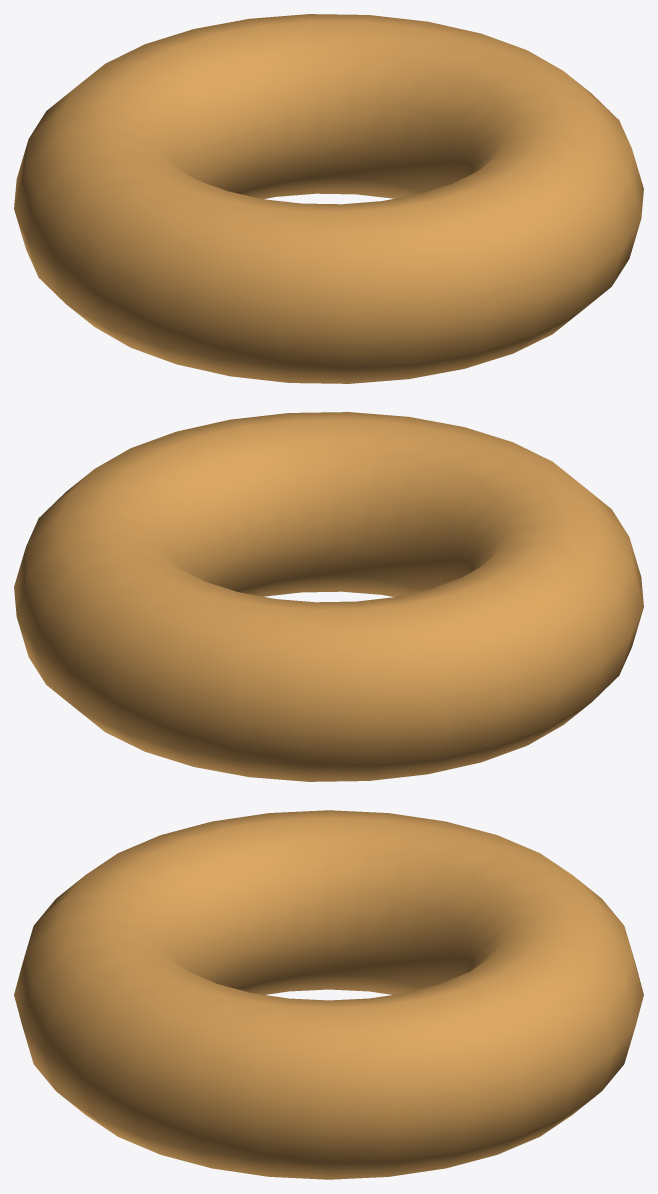
The model's file is Bagels.fbx.
3 renders of one model, top to bottom at view 1: azimuth 30°, elevation 25°; view 2: azimuth 150°, elevation 25°; view 3: azimuth 270°, elevation 25°, orthographic.
Parts seen in each view (by area): view 1: Bagels; view 2: Bagels; view 3: Bagels.
Part boxes in pixels (left/top/right/bottom): Bagels: left=14, top=14, right=643, bottom=383; Bagels: left=14, top=412, right=643, bottom=781; Bagels: left=14, top=810, right=643, bottom=1179.
Bounding box in the file's own units: 0.112 × 0.032 × 0.112.
